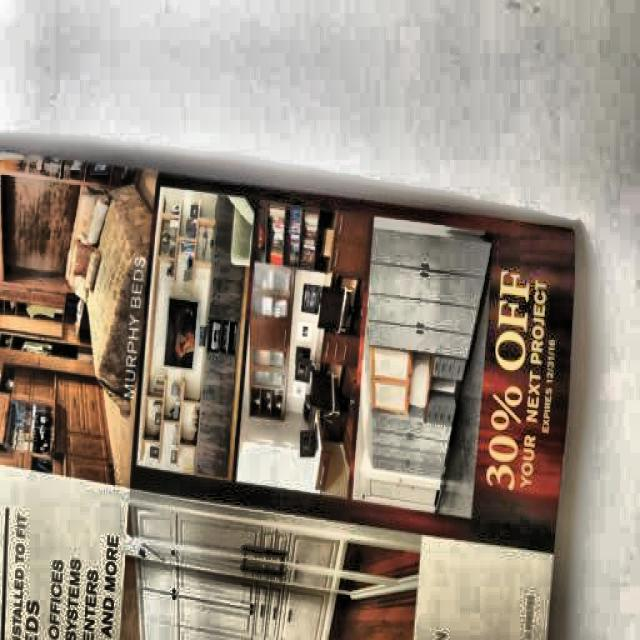paper: (0, 132, 576, 640)
